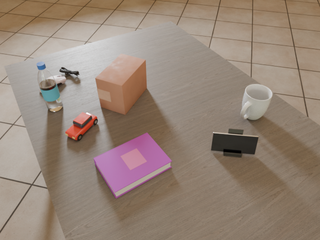book: (94, 133, 172, 198)
bottle: (37, 62, 63, 112)
box: (95, 54, 147, 115)
cup: (241, 84, 272, 120)
mouse: (40, 75, 66, 92)
phone: (211, 132, 259, 154)
toy_car: (65, 112, 98, 140)
